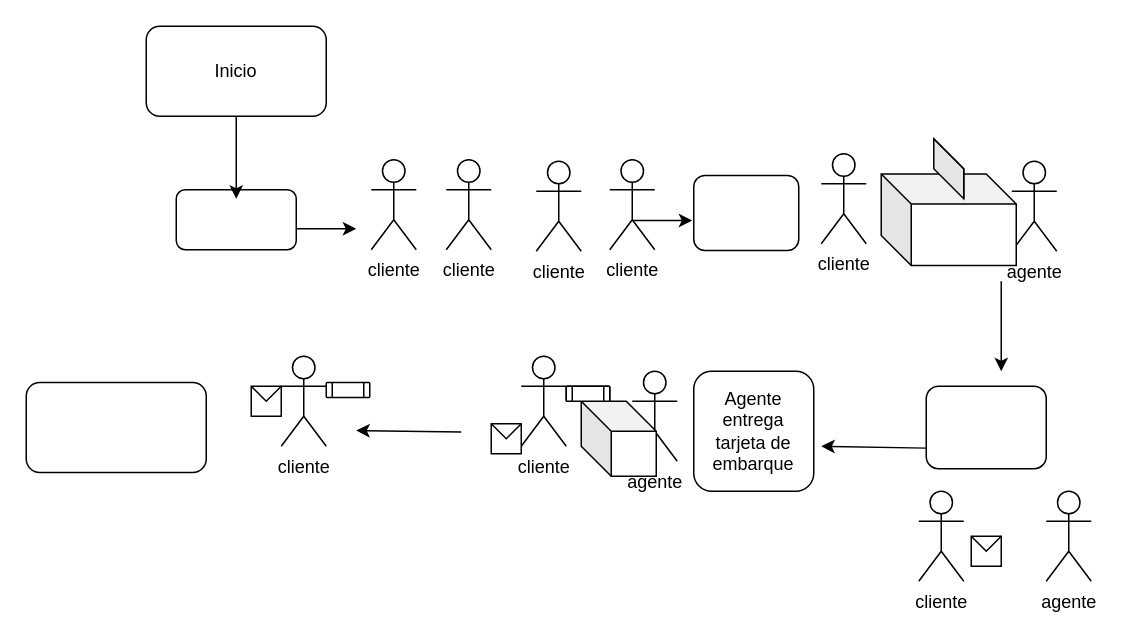
Image size: 1122x639. Some labels were removed from this diagram. The centre of each missing label's shape, as x and y in pixels:
"Agente entrega equipaje" goes at [985,427].
"cliente hace check-in" goes at [745,212].
"Cliente hace fila" goes at [235,219].
"Fin" goes at [115,426].
